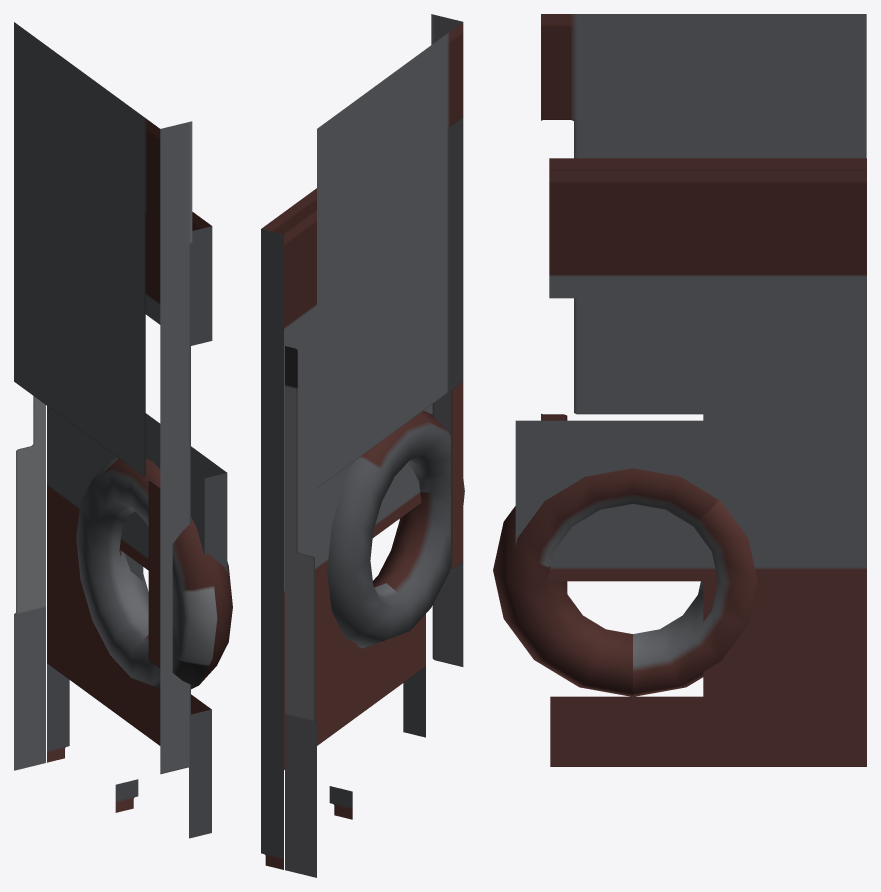
The model's file is section-0.obj.
3 views of the same model, side by side, from view 1: azimuth 30°, elevation 25°; view 2: azimuth 150°, elevation 25°; view 3: azimuth 270°, elevation 25° (orthographic). The views are drawn at different scales.
Size of the model in its own units: 0.0907 by 1.1 by 0.4485.
